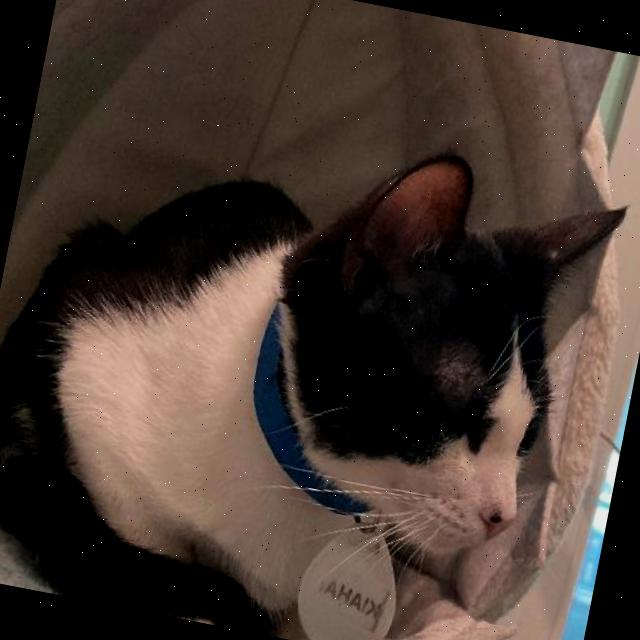domestic_short_hair_cat: (220, 122, 640, 599)
